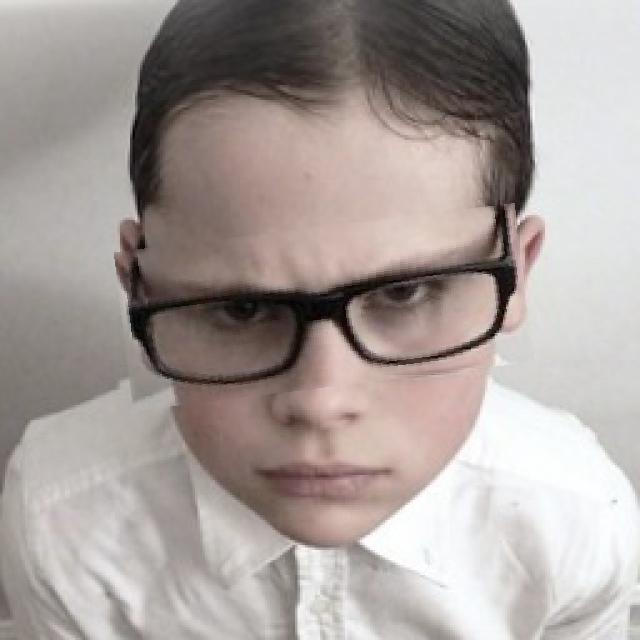glasses: (118, 216, 530, 400)
